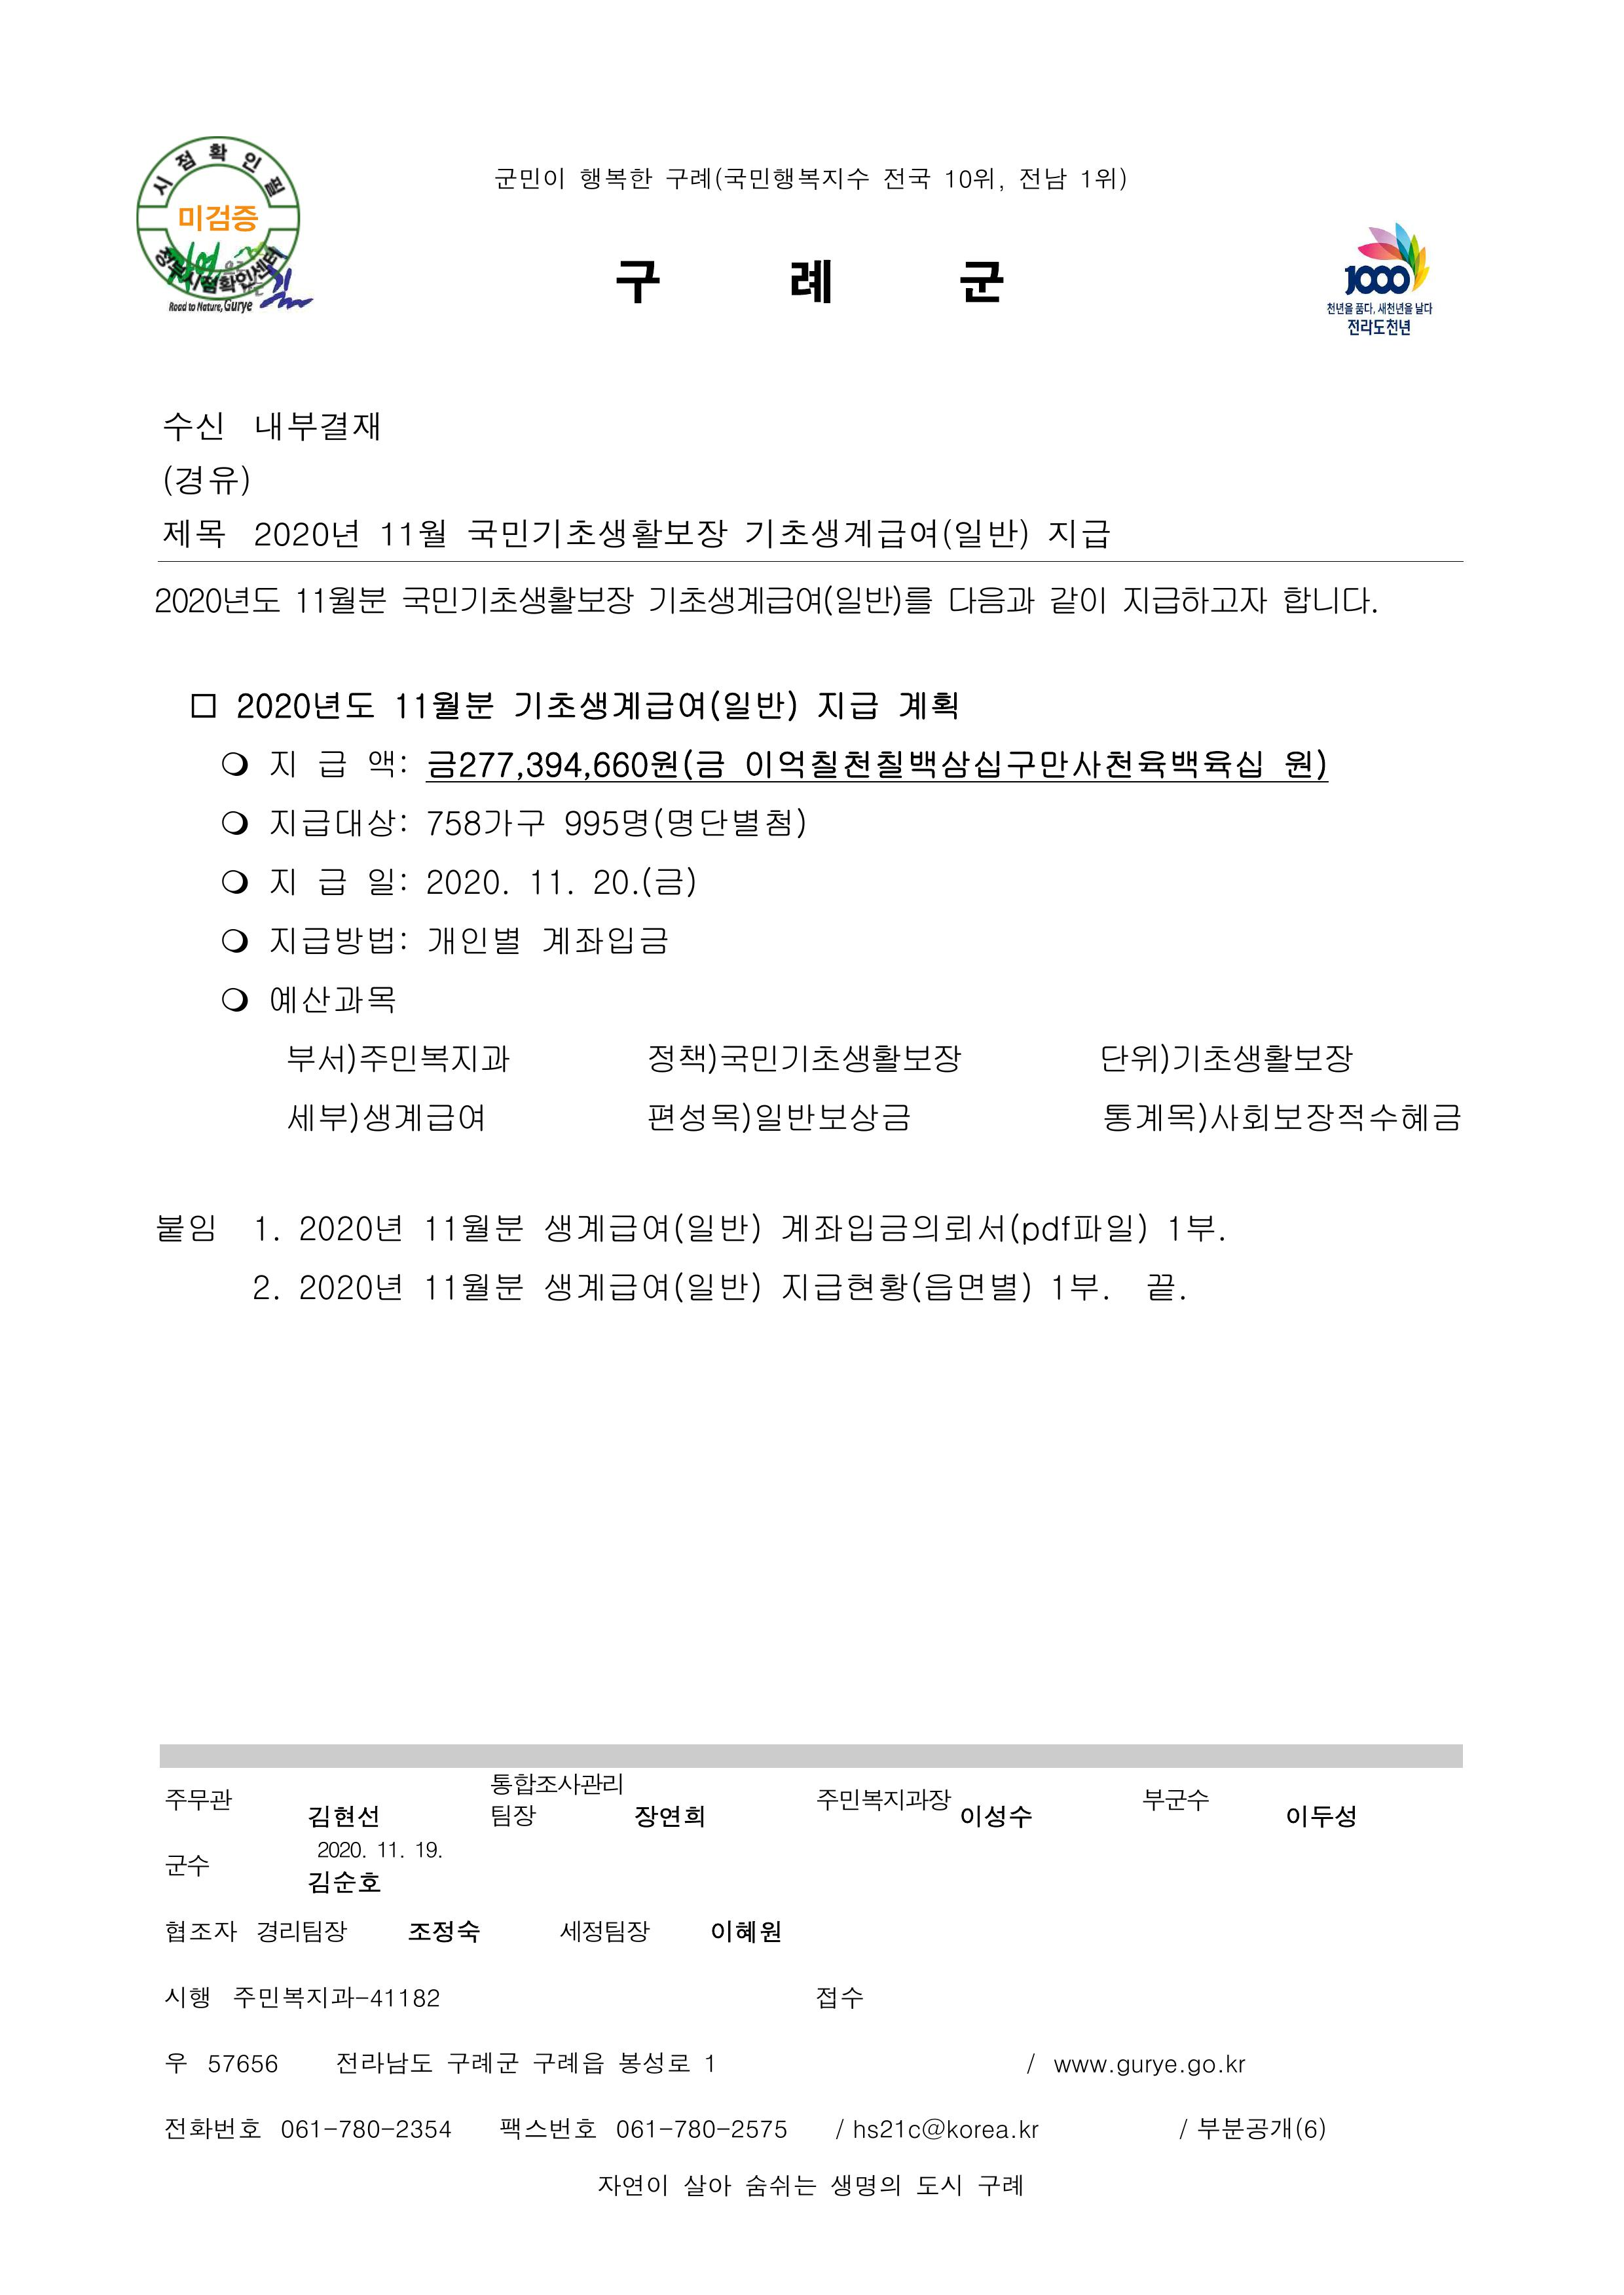t: (742, 746, 1266, 781), (613, 251, 904, 312), (778, 1208, 1151, 1247), (1101, 1097, 1459, 1137), (645, 581, 932, 620), (513, 685, 800, 724), (645, 1040, 961, 1075), (423, 746, 724, 781), (645, 1097, 911, 1137), (742, 516, 1033, 552), (466, 513, 728, 552), (559, 803, 807, 842), (778, 1269, 1036, 1305), (1097, 1040, 1352, 1075), (541, 1208, 764, 1247), (401, 583, 635, 621), (541, 1269, 764, 1305), (287, 1097, 487, 1137), (287, 1040, 513, 1075), (659, 161, 871, 193), (265, 803, 412, 842), (265, 921, 412, 961), (232, 688, 376, 727), (1118, 581, 1269, 616), (538, 921, 667, 961), (251, 409, 380, 445), (265, 982, 394, 1018), (814, 1782, 953, 1814), (154, 581, 283, 616), (423, 803, 545, 839), (1194, 2112, 1327, 2144), (232, 1987, 397, 2011), (251, 516, 362, 552), (588, 864, 699, 900), (423, 1208, 523, 1247), (297, 1269, 405, 1305), (491, 1771, 623, 1800), (390, 688, 494, 724), (419, 1269, 523, 1305), (616, 2119, 788, 2140), (294, 1212, 405, 1244), (423, 921, 520, 957), (290, 581, 387, 616), (157, 462, 251, 498), (613, 2047, 717, 2080), (1280, 581, 1373, 616), (946, 584, 1036, 620), (333, 2047, 434, 2080), (555, 1915, 652, 1947), (423, 864, 509, 900), (254, 1915, 348, 1947), (175, 200, 258, 236), (498, 2116, 599, 2144), (1337, 261, 1412, 297), (950, 258, 1004, 308), (527, 2047, 610, 2080), (907, 2119, 1011, 2144), (304, 1864, 383, 1897), (377, 516, 448, 552), (577, 161, 656, 193), (706, 1915, 785, 1947), (742, 2169, 821, 2201), (1280, 1800, 1359, 1832), (280, 2119, 394, 2140), (304, 1800, 380, 1832), (631, 1800, 706, 1832), (957, 1800, 1033, 1832), (405, 1915, 480, 1947), (161, 2112, 236, 2144), (595, 2169, 671, 2201), (161, 1782, 232, 1814), (161, 409, 226, 445), (1043, 516, 1108, 552), (154, 1208, 219, 1244), (814, 688, 878, 724), (1047, 1269, 1111, 1305), (824, 2169, 896, 2201), (896, 688, 957, 724), (494, 164, 570, 193), (1047, 581, 1108, 616), (161, 516, 226, 548), (1140, 1782, 1208, 1810), (1162, 1212, 1223, 1244), (164, 1922, 240, 1947), (208, 2051, 283, 2076), (448, 2051, 523, 2076), (1344, 315, 1412, 340), (878, 161, 932, 193), (681, 2169, 735, 2201), (365, 864, 412, 900), (1280, 746, 1327, 781), (487, 1800, 538, 1832), (527, 868, 577, 900), (1014, 164, 1069, 193), (164, 1850, 212, 1882), (161, 1983, 212, 2011), (814, 1983, 864, 2011), (943, 168, 1000, 193), (365, 746, 409, 778), (1115, 2058, 1179, 2080), (394, 2119, 455, 2140), (265, 864, 301, 900), (315, 864, 351, 900), (265, 746, 301, 781), (1144, 1269, 1179, 1305), (1079, 168, 1130, 193), (849, 2119, 907, 2140), (918, 2173, 965, 2198), (315, 1839, 369, 1861), (315, 746, 348, 781), (975, 2176, 1025, 2198), (1050, 2058, 1111, 2076), (397, 1987, 441, 2011), (251, 1212, 283, 1244), (168, 301, 251, 312), (254, 1273, 280, 1305), (1373, 301, 1431, 315), (1187, 2058, 1219, 2080), (377, 1839, 409, 1861), (1323, 301, 1370, 315), (412, 1839, 441, 1861), (168, 2051, 190, 2076), (1223, 2055, 1247, 2076), (240, 2119, 261, 2140), (1018, 2123, 1043, 2140)
